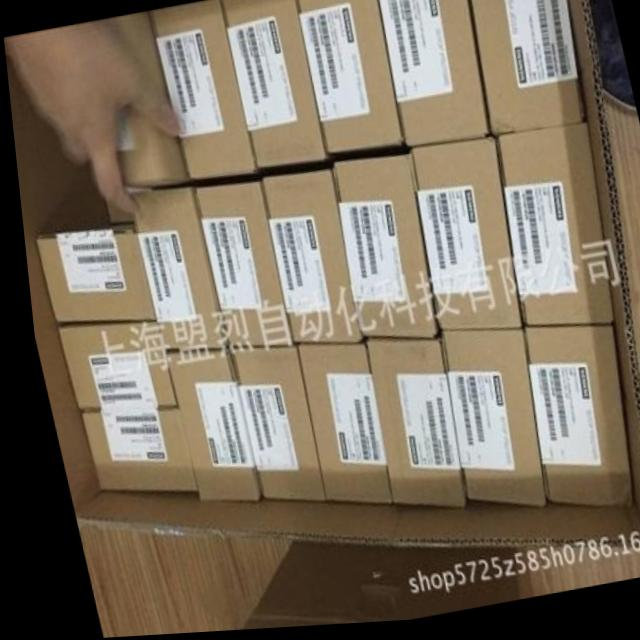box: (491, 130, 606, 331), (407, 145, 516, 335), (516, 330, 621, 514), (328, 156, 430, 343), (149, 2, 253, 183), (433, 333, 534, 513), (220, 0, 324, 172), (355, 343, 456, 513), (259, 173, 354, 351), (377, 0, 486, 150), (190, 186, 287, 351), (124, 190, 223, 351), (469, 0, 581, 140), (296, 0, 396, 156), (221, 350, 316, 505), (292, 344, 381, 509), (155, 351, 248, 505), (32, 223, 150, 324), (50, 322, 170, 411), (69, 409, 188, 493), (109, 106, 182, 190)
